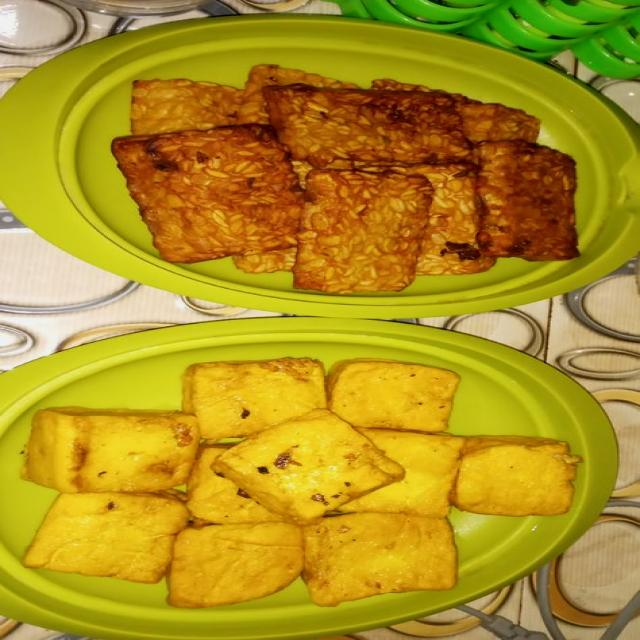tahu goreng: (22, 391, 203, 505), (217, 414, 402, 522), (298, 505, 462, 612), (28, 495, 184, 585), (186, 359, 327, 450), (167, 517, 304, 610), (450, 437, 579, 518), (327, 360, 459, 435)
tempe goreng: (109, 116, 313, 276), (260, 84, 480, 166), (298, 171, 432, 294), (476, 142, 580, 264)
